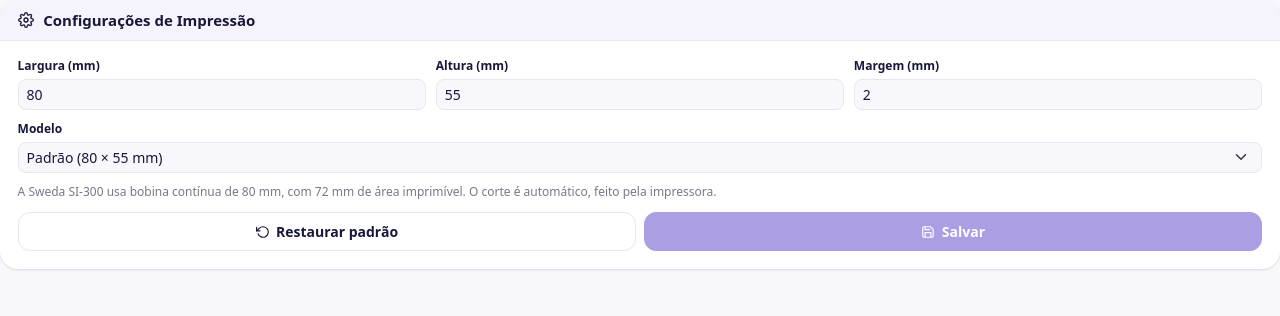
Test: PrintSettingsPanel — ações › restaura as dimensões padrão
Click the button "Restaurar padrão": [327, 232] box [18,212,636,251]
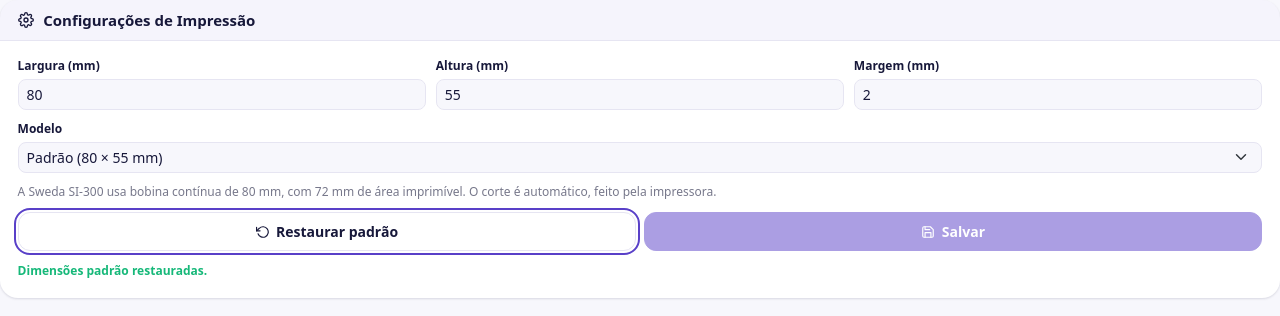
Result: the message reads "Dimensões padrão restauradas." at [18,262,207,279]
